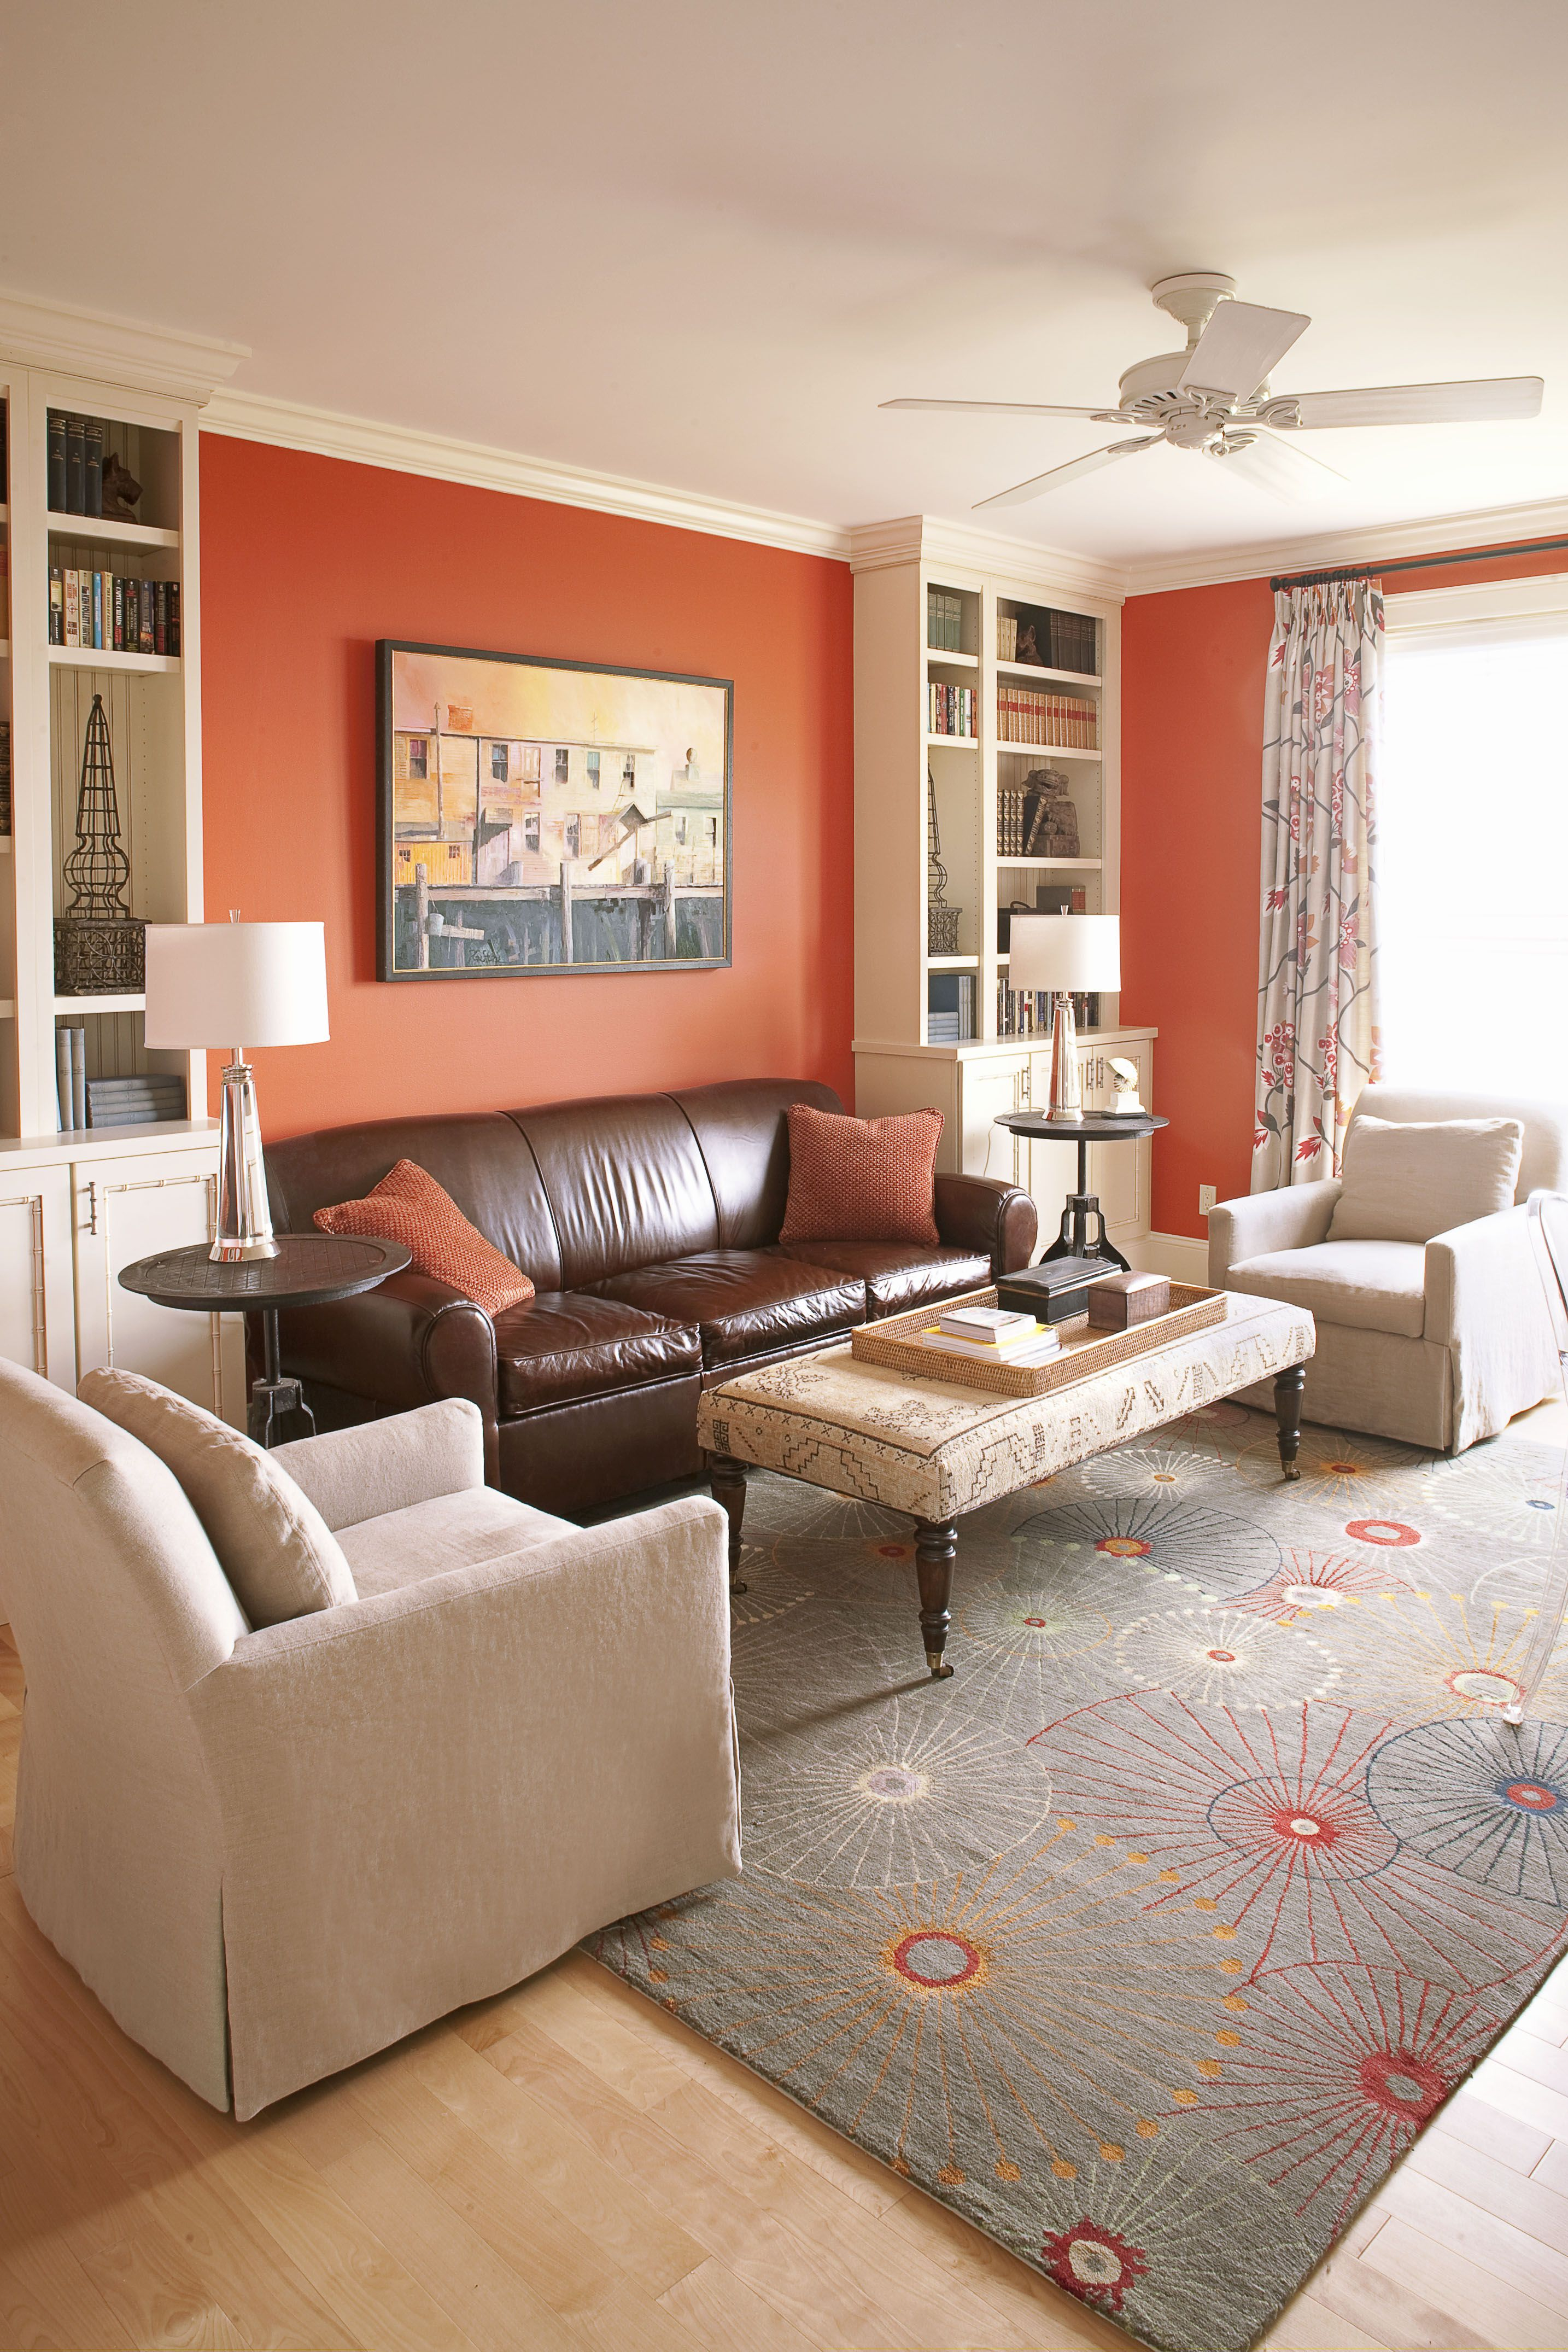coklat: (269, 1083, 880, 1321), (128, 1239, 406, 1311)
putih: (3, 1351, 738, 2053), (1251, 1106, 1568, 1438), (138, 920, 336, 1059), (1004, 915, 1127, 985)
